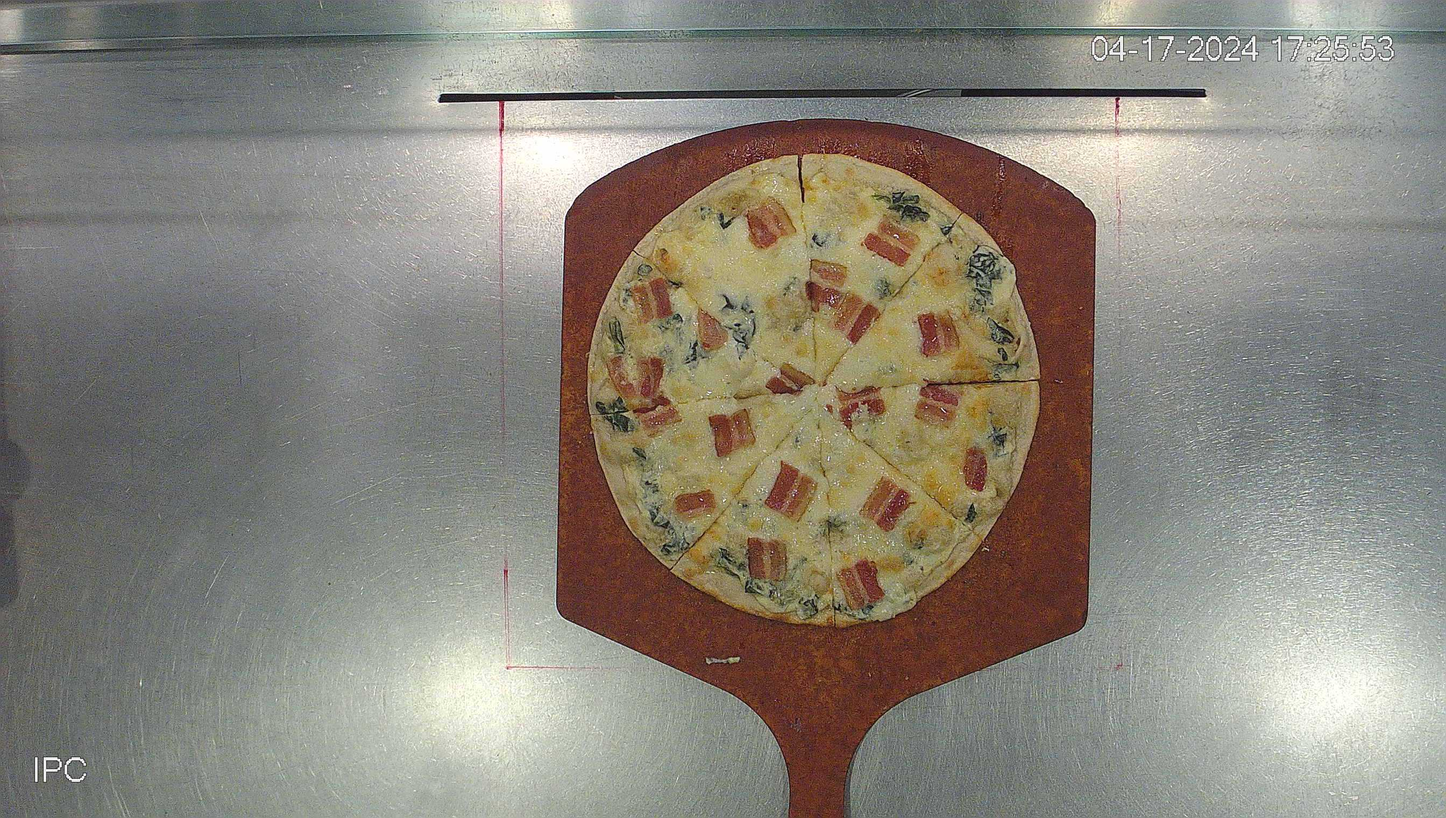pepporoni: (588, 154, 1042, 627)
